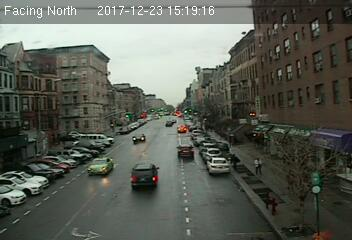car: (129, 163, 161, 190), (86, 155, 116, 180), (175, 144, 195, 161), (208, 157, 229, 173), (130, 133, 147, 145)
